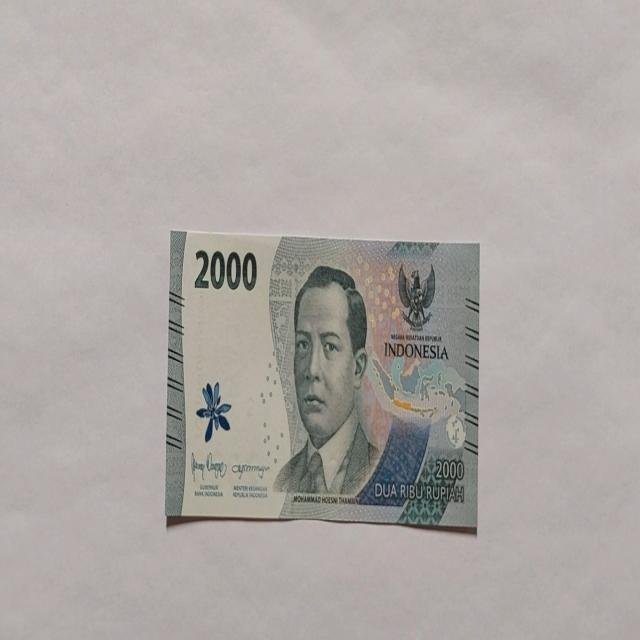dua ribu rupiah: (165, 229, 480, 531), (272, 263, 382, 501)
